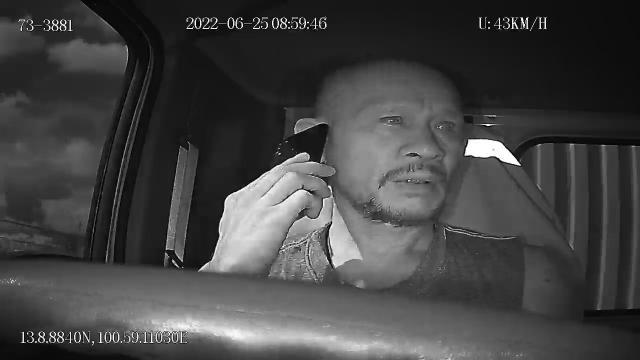PhoneUse: (269, 123, 329, 229)
SafeDriving: (424, 108, 471, 141), (372, 105, 414, 134)
